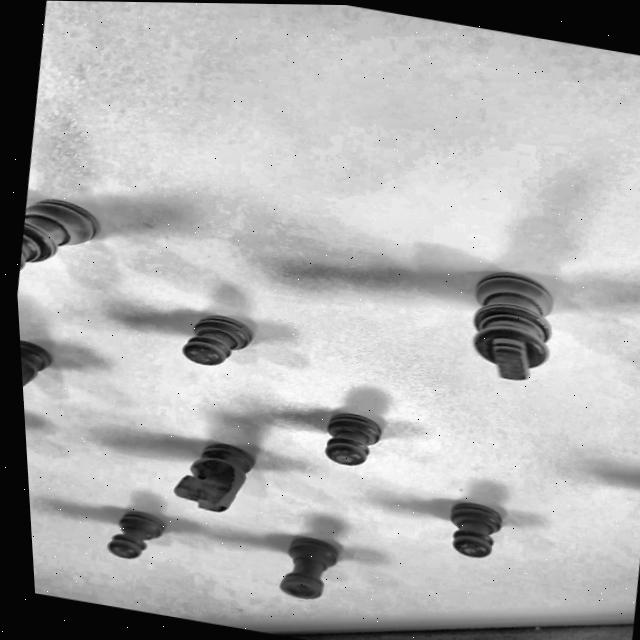black-king: (443, 258, 597, 397)
black-knight: (151, 430, 273, 522), (19, 321, 72, 418)
black-pawn: (150, 297, 287, 386), (86, 497, 191, 580), (425, 486, 529, 569), (308, 401, 411, 480)
black-rook: (257, 525, 362, 613)
